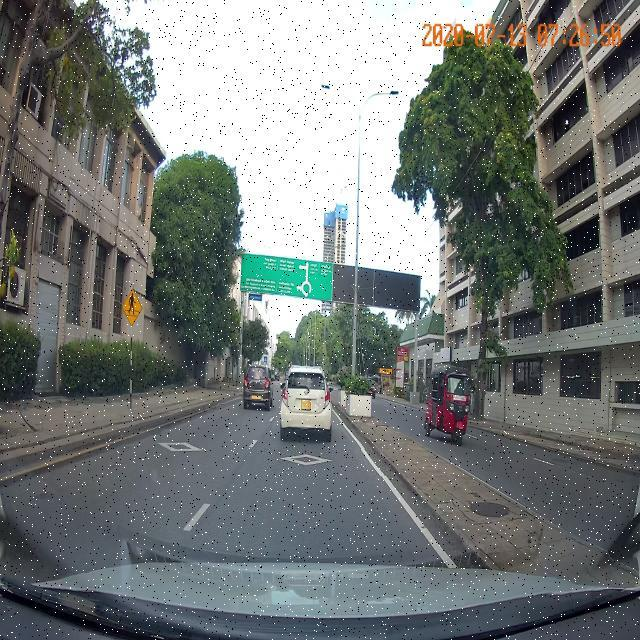diamond: (233, 449, 387, 476)
